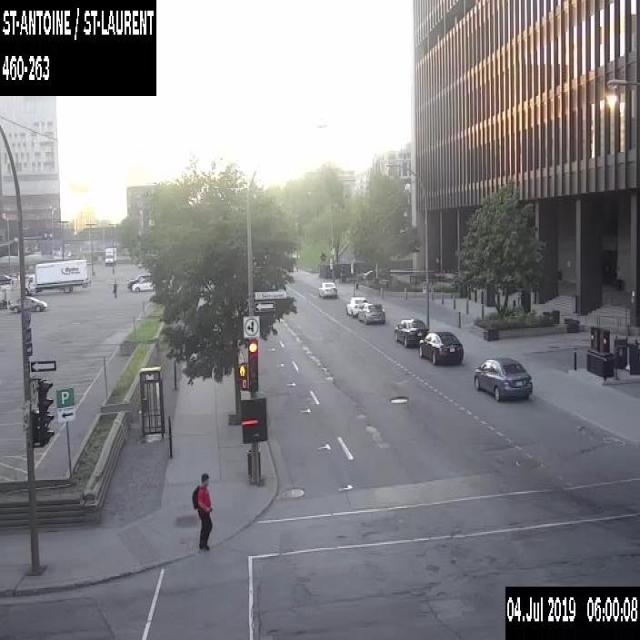pedestrian: (191, 470, 213, 550), (112, 279, 118, 296)
vehicle: (472, 352, 533, 401), (25, 259, 89, 294), (418, 330, 464, 366), (394, 317, 427, 347), (357, 301, 385, 323), (9, 296, 46, 312), (346, 295, 368, 316), (127, 272, 151, 288), (131, 276, 157, 290), (318, 280, 337, 298), (104, 246, 116, 264), (0, 274, 14, 286)
